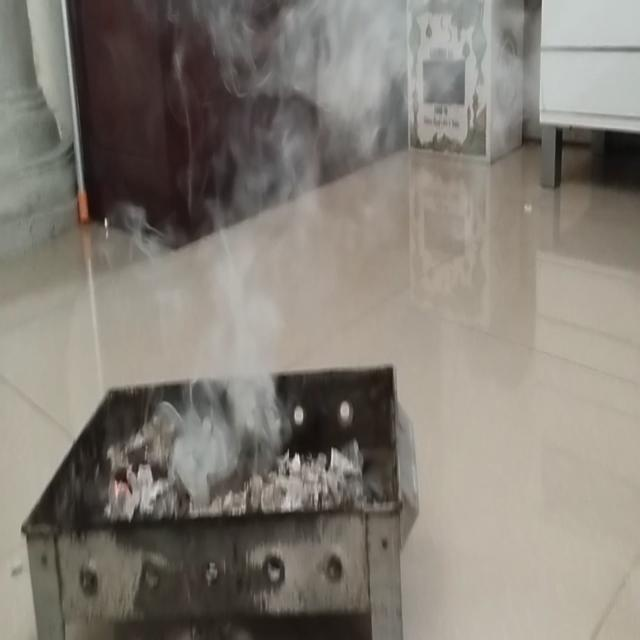smoke: (192, 1, 297, 446)
